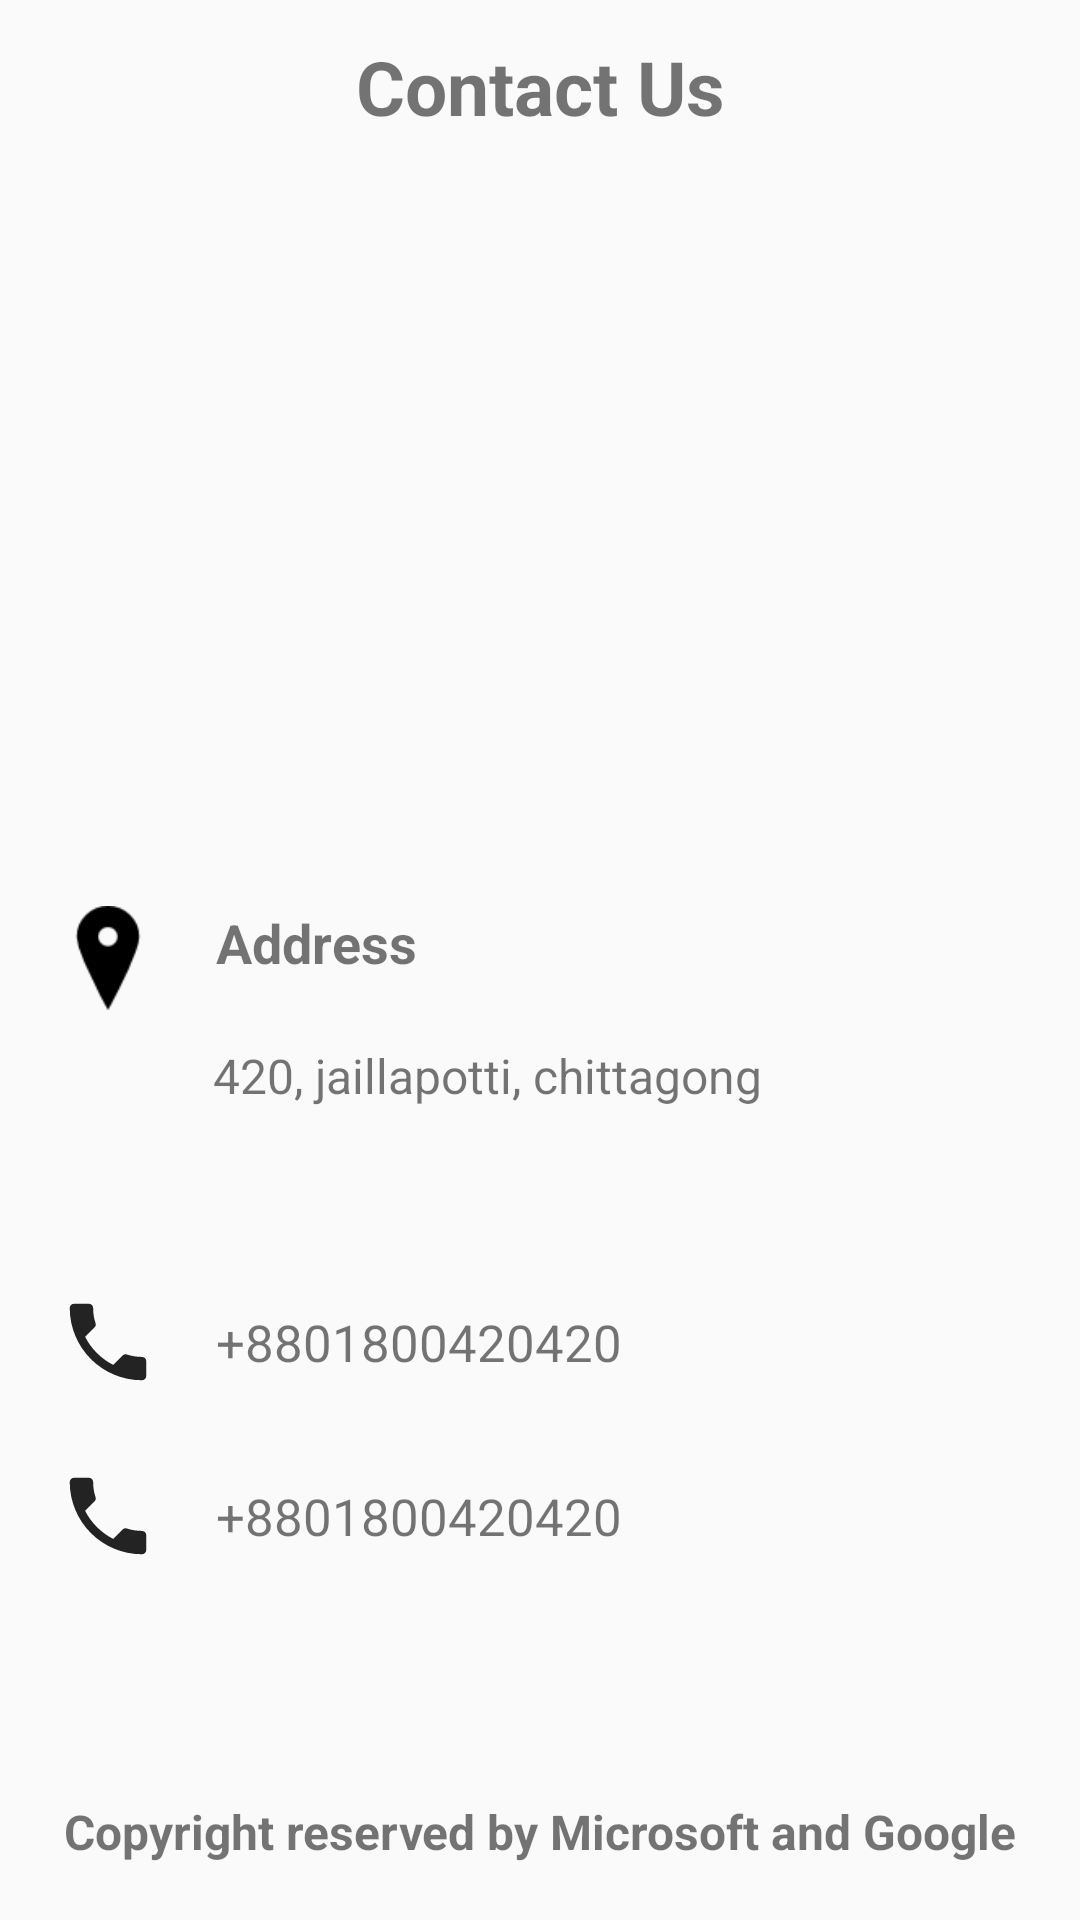

Screen size 1080 × 1920. Icon name, then its box in pixels as (x1, y1, x2, y2):
phone: (69, 1303, 147, 1381), (69, 1477, 147, 1555)
